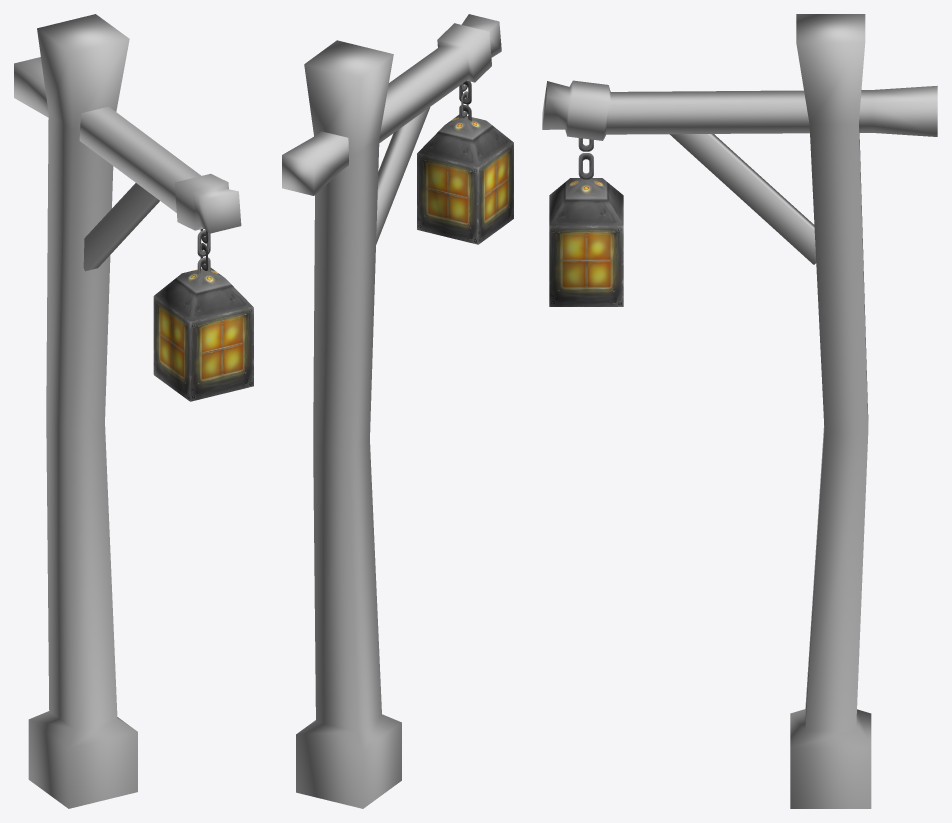
File: M_StreetLamp.fbx
The picture shows the model from 3 angles, left to right: view 1: azimuth 30°, elevation 25°; view 2: azimuth 150°, elevation 25°; view 3: azimuth 270°, elevation 25°; orthographic projection. The views are drawn at different scales.
Parts seen in each view (by area): view 1: M_StreetLamp; view 2: M_StreetLamp; view 3: M_StreetLamp.
Boxes of the visible parts, x1,y1,x2,y2 form: M_StreetLamp: [14, 14, 253, 808]; M_StreetLamp: [282, 14, 513, 808]; M_StreetLamp: [542, 14, 937, 808].
Bounding box in the file's own units: 0.6262 × 6.49 × 3.05.
